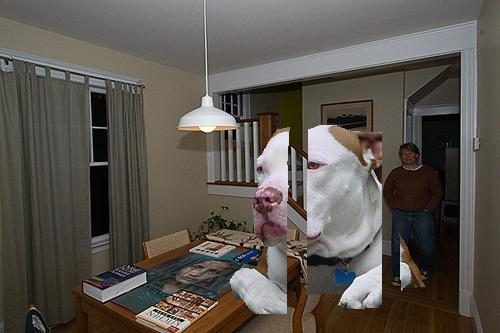tampered: (231, 126, 425, 314)
